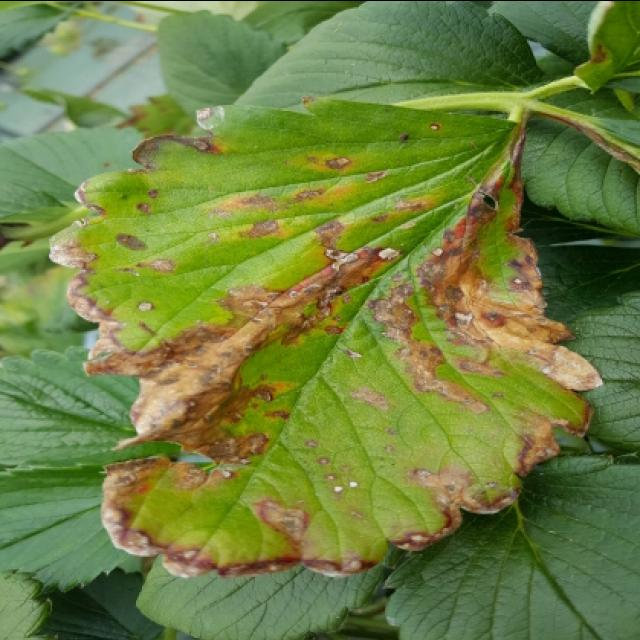Angular Leafspot: (43, 92, 610, 582)
